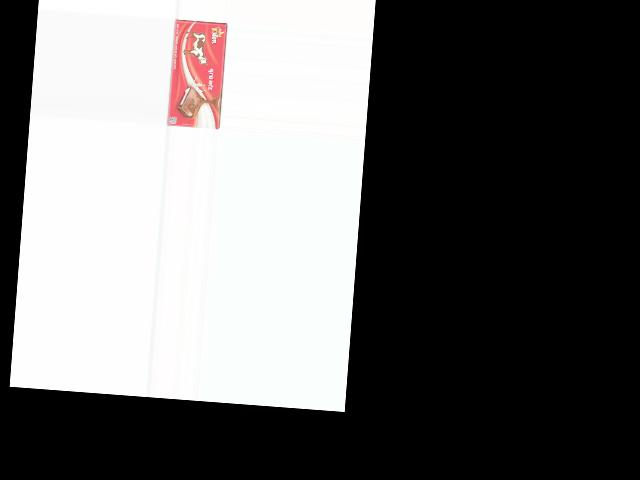chocolate: (166, 17, 227, 129)
